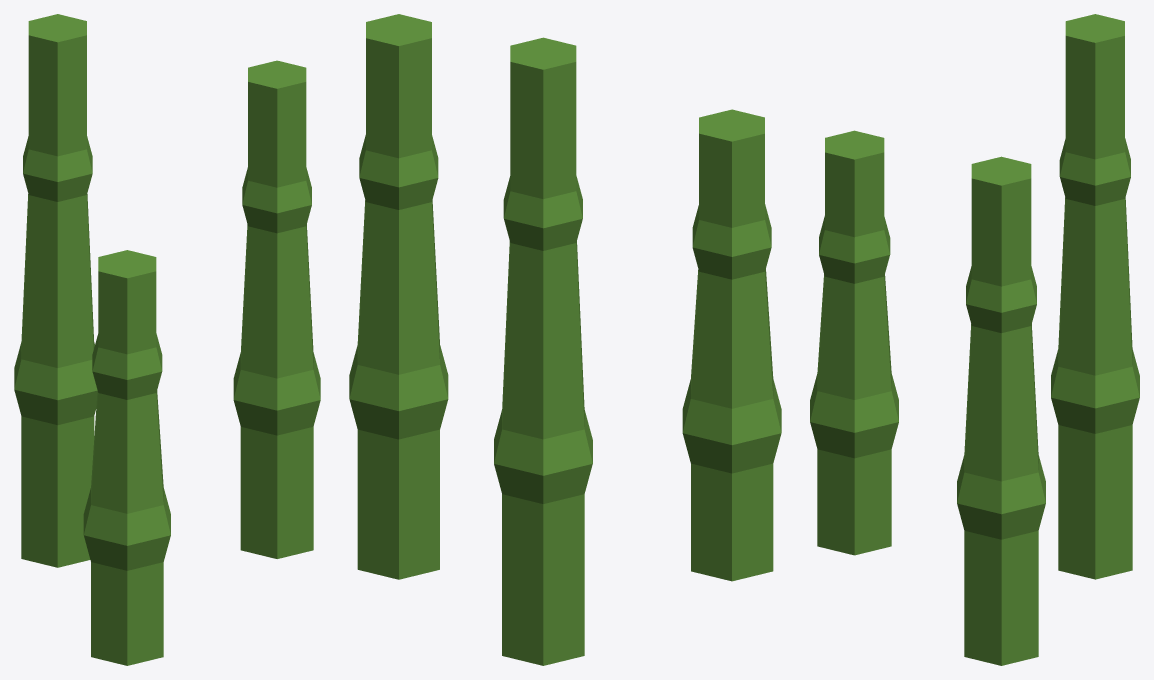
Rendered from reeds.glb.
3 renders of one model, left to right at view 1: azimuth 30°, elevation 25°; view 2: azimuth 150°, elevation 25°; view 3: azimuth 270°, elevation 25°, orthographic. The views are drawn at different scales.
Parts seen in each view (by area): view 1: reeds; view 2: reeds; view 3: reeds.
Boxes of the visible parts, x1,y1,x2,y2 form: reeds: [14, 14, 320, 665]; reeds: [349, 14, 781, 665]; reeds: [810, 14, 1139, 665].
Bounding box in the file's own units: 0.3401 × 0.549 × 0.308.
